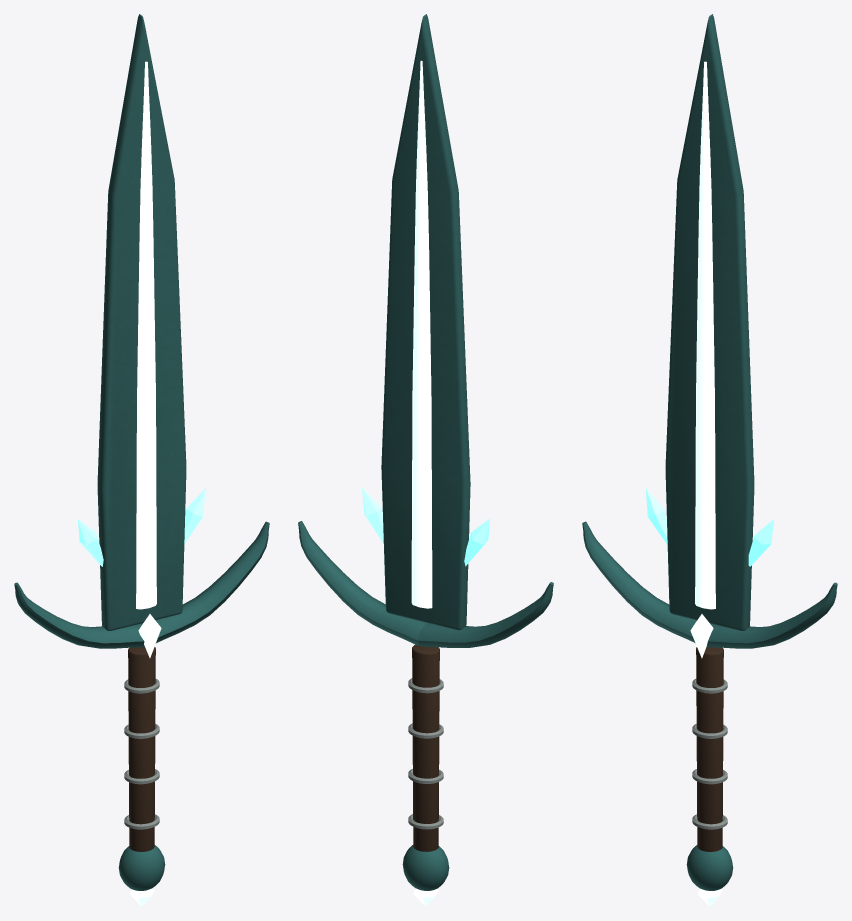
The model's file is soul_blade.glb.
3 views of the same model, side by side, from view 1: azimuth 30°, elevation 25°; view 2: azimuth 150°, elevation 25°; view 3: azimuth 330°, elevation 25° (orthographic).
Visible parts, largest first — view 1: soul_blade; view 2: soul_blade; view 3: soul_blade.
Boxes of the visible parts, x1,y1,x2,y2 form: soul_blade: (14, 14, 269, 906); soul_blade: (298, 14, 553, 906); soul_blade: (582, 14, 837, 906).
Size of the model in its own units: 0.5875 by 1.96 by 0.0972.
Materials: 5 (3 with a texture image).
